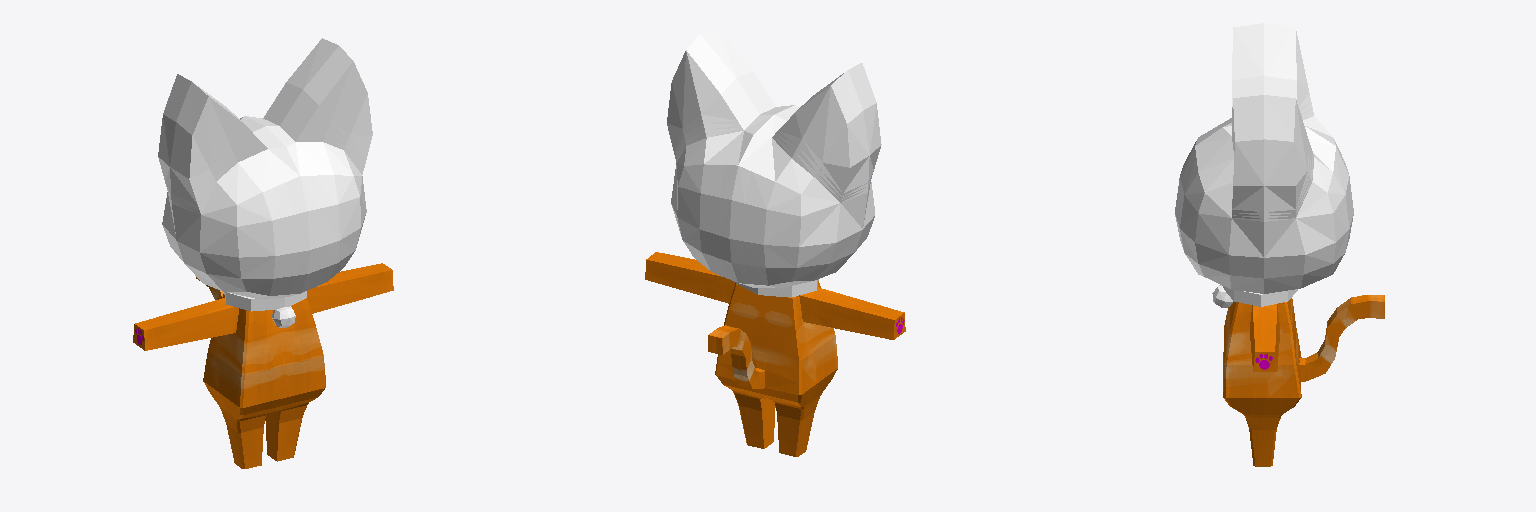
3 views of the same model, side by side, from view 1: azimuth 30°, elevation 25°; view 2: azimuth 150°, elevation 25°; view 3: azimuth 270°, elevation 25° (orthographic).
Parts seen in each view (by area): view 1: Head_Head, Body_Body, Collar_Collar; view 2: Head_Head, Body_Body, Collar_Collar; view 3: Head_Head, Body_Body, Collar_Collar.
Part boxes in pixels (x1,y1,x2,y2): Head_Head: (158, 38, 372, 298); Body_Body: (133, 263, 393, 468); Collar_Collar: (224, 291, 306, 327); Head_Head: (667, 27, 881, 288); Body_Body: (645, 252, 905, 456); Collar_Collar: (736, 279, 818, 297); Head_Head: (1175, 23, 1353, 293); Body_Body: (1223, 295, 1384, 466); Collar_Collar: (1212, 285, 1297, 307).
Size of the model in its own units: 1.99 by 3.03 by 1.46.
Materials: 3 (1 with a texture image).